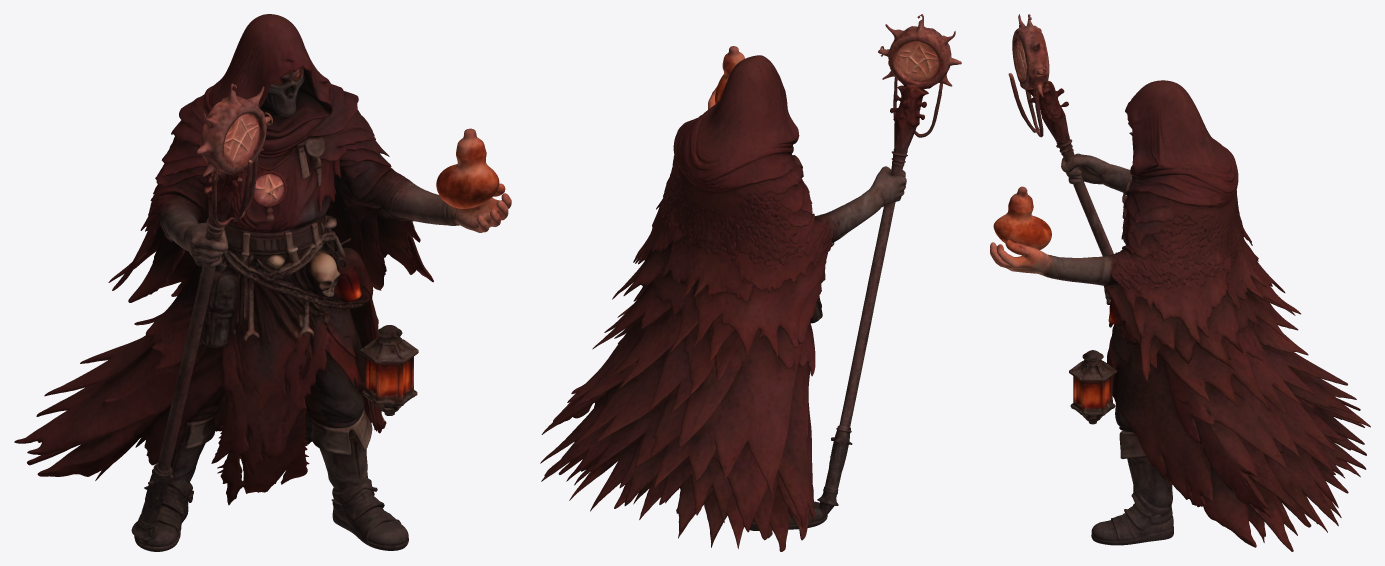
Rendered from enemy_cultist_priest_01.glb.
3 renders of one model, left to right at view 1: azimuth 30°, elevation 25°; view 2: azimuth 150°, elevation 25°; view 3: azimuth 270°, elevation 25°, orthographic. The views are drawn at different scales.
Parts seen in each view (by area): view 1: material; view 2: material; view 3: material.
Boxes of the visible parts, bbox=[...] form: material: bbox=[14, 14, 511, 551]; material: bbox=[540, 14, 961, 551]; material: bbox=[990, 14, 1370, 551].
Bounding box in the file's own units: 0.6113 × 0.9188 × 0.7144.
Materials: 1 (1 with a texture image).
